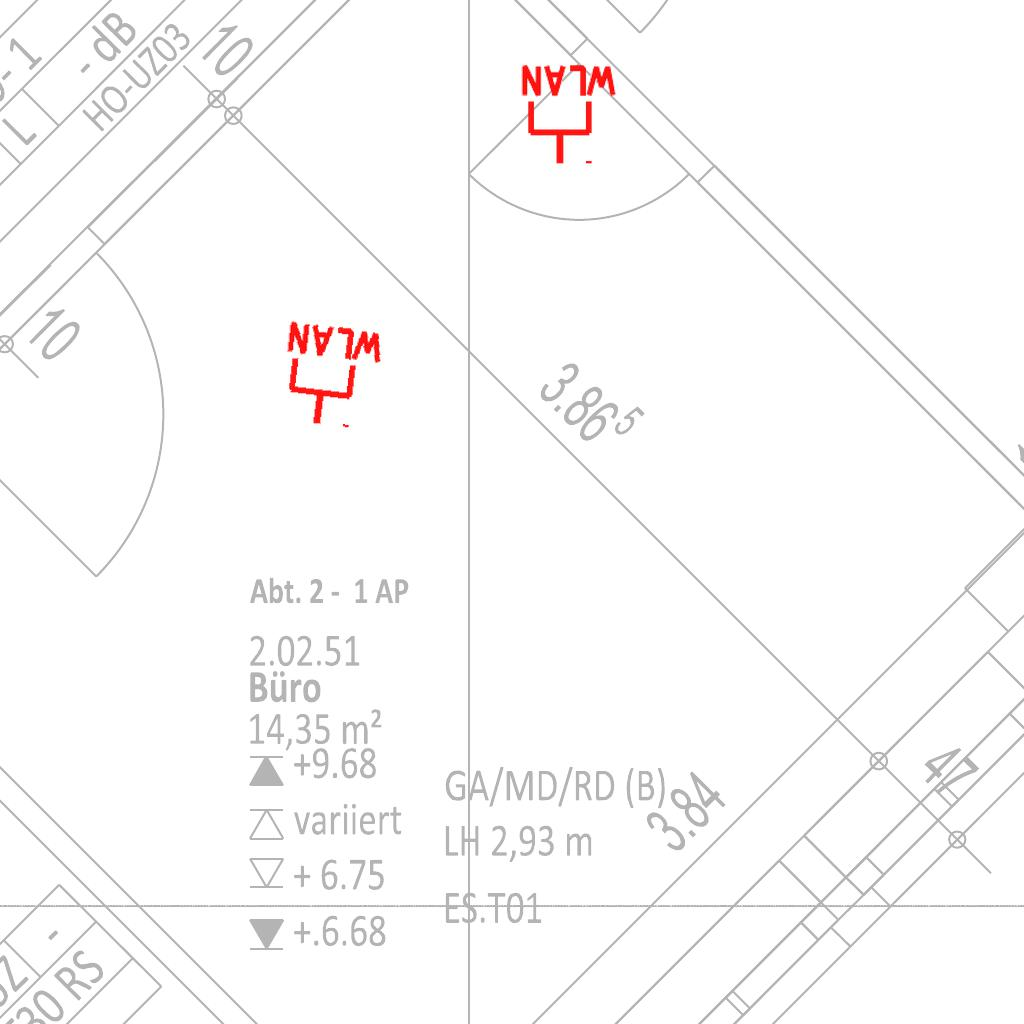WLAN: (273, 318, 390, 436), (517, 63, 621, 168)
